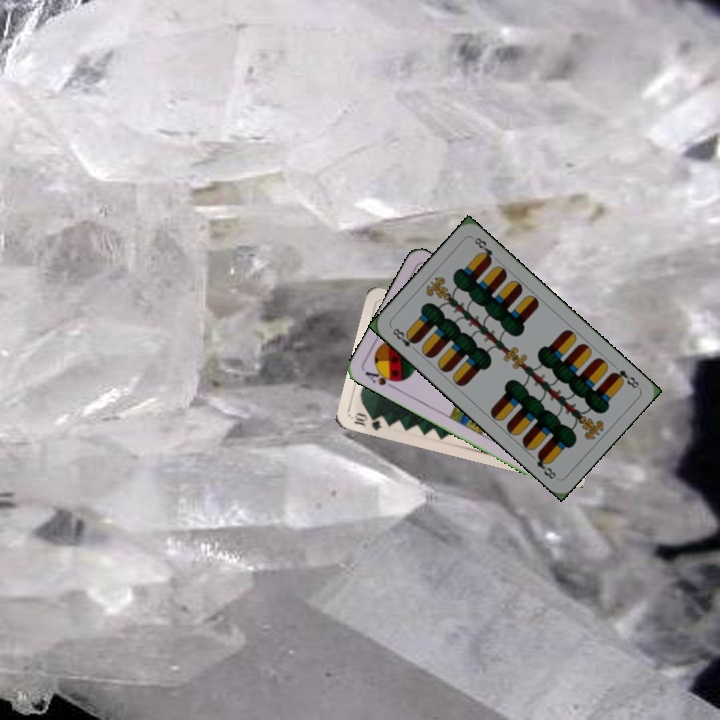E8: (387, 323, 420, 355), (608, 365, 642, 391)
G10: (350, 408, 384, 433)
SA: (361, 365, 401, 391)
